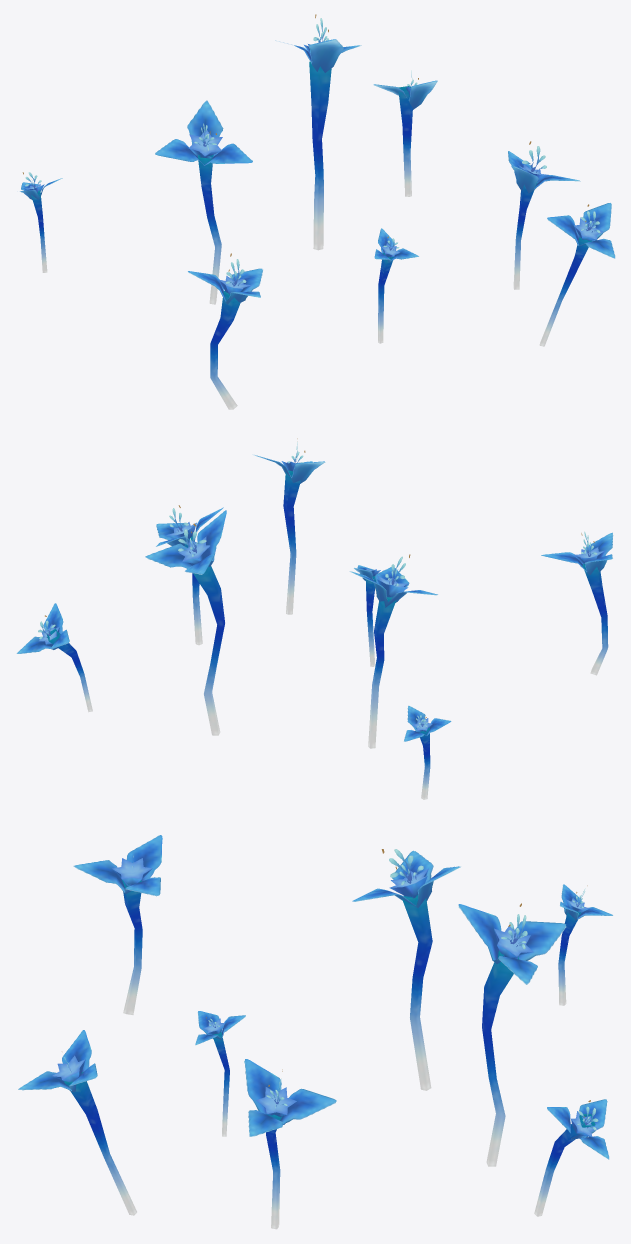
Rendered from P_FlowersIce02.obj.
The picture shows the model from 3 angles, top to bottom: view 1: azimuth 30°, elevation 25°; view 2: azimuth 150°, elevation 25°; view 3: azimuth 270°, elevation 25°; orthographic projection. The views are drawn at different scales.
Bounding box in the file's own units: 1.73 × 0.8595 × 1.71.
